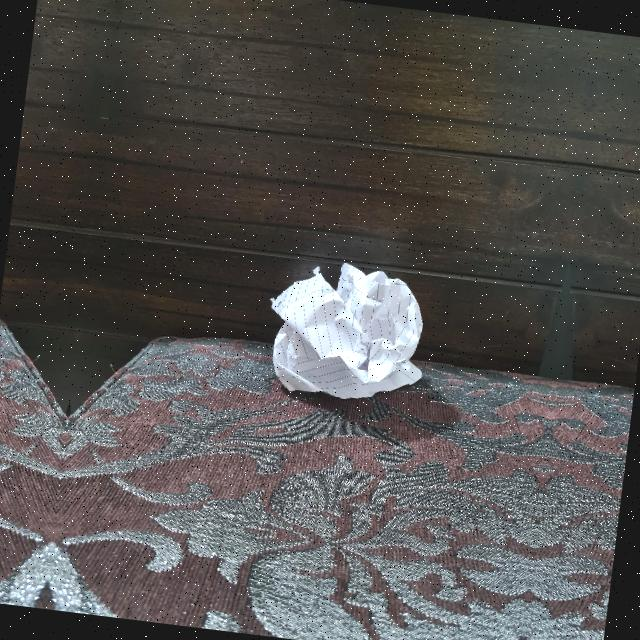paper: (258, 260, 440, 411)
